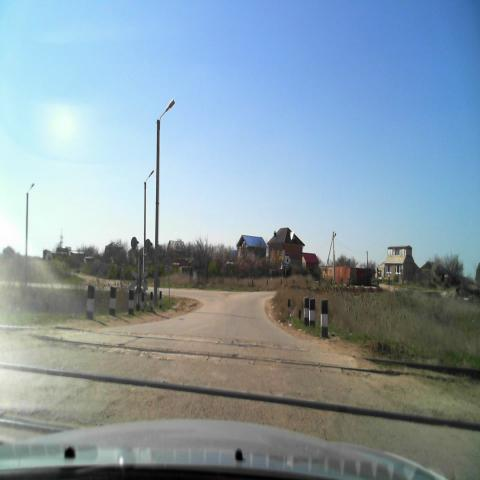7_3: (284, 254, 289, 268)
